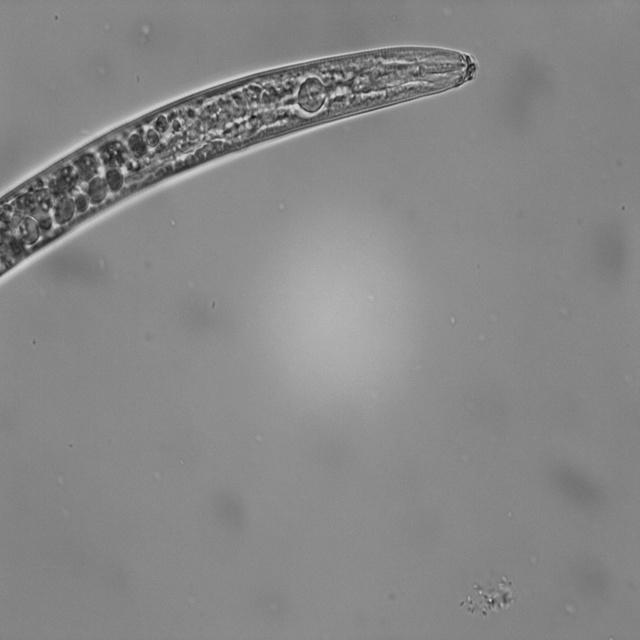Pratylenchus: (0, 44, 482, 297)
